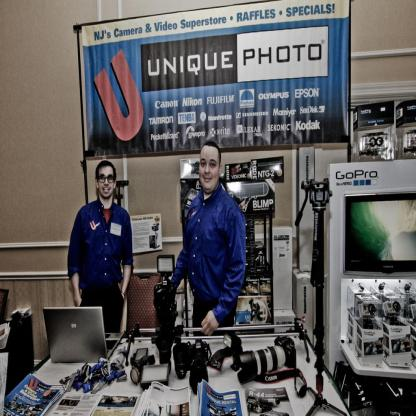board: (42, 304, 120, 363)
